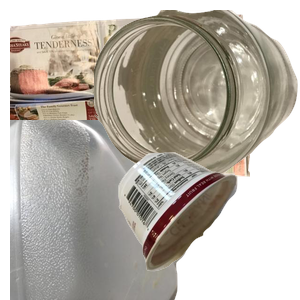glass: (94, 10, 300, 184)
paper: (10, 11, 250, 180)
plastic: (10, 120, 190, 300)
trash: (116, 149, 300, 300)
